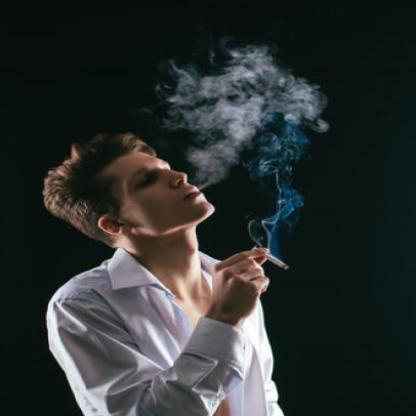cigarette: (264, 252, 292, 272)
person: (32, 132, 228, 415)
smoke: (168, 53, 322, 186), (253, 132, 308, 235)
